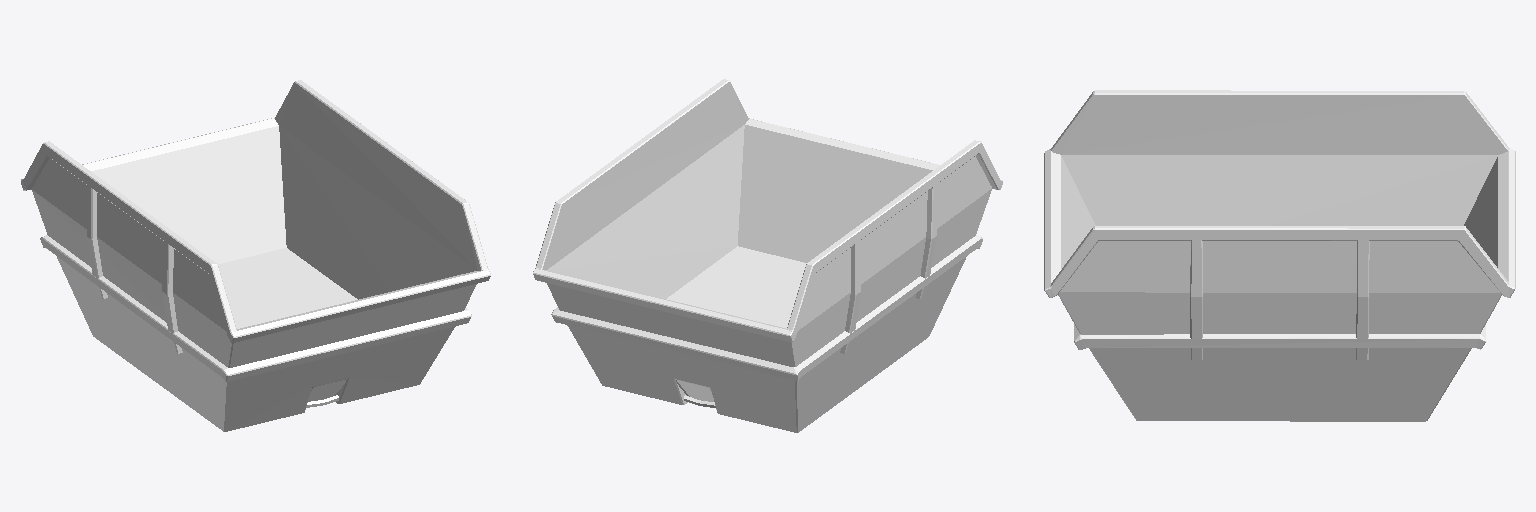
The robot description file, URDF, robot "ball":
<?xml version="1.0" encoding="utf-8"?>
<robot name="ball">
  <link name="base_link">
    <contact>
      <lateral_friction value="0.5"/>
      <rolling_friction value="0.0"/>
      <contact_cfm value="0.0"/>
      <contact_erp value="1.0"/>
    </contact>
    <inertial>
      <origin rpy="0 0 0" xyz="0 0 0"/>
      <mass value="0"/>
      <inertia ixx="0" ixy="0" ixz="0" iyy="0" iyz="0" izz="0"/>
    </inertial>
    <visual>
      <origin rpy="1.57 0 0" xyz="0 0 0"/>
      <geometry>
        <mesh filename="models/meshes/dumpster/Dumpster.obj" scale="0.0032 0.0032 0.0032"/>
      </geometry>
      <material name="tray_material">
        <color rgba="1 1 1 1"/>
      </material>
    </visual>
    <collision>
      <origin rpy="1.57 0 0" xyz="0 0 0"/>
      <geometry>
        <mesh filename="models/meshes/dumpster/Dumpster.obj" scale="0.0032 0.0032 0.0032"/>
      </geometry>
    </collision>
  </link>
</robot>

--- Render facts (derived) ---
The picture shows the robot from 3 angles, left to right: view 1: azimuth 30°, elevation 25°; view 2: azimuth 150°, elevation 25°; view 3: azimuth 270°, elevation 25°; orthographic projection.
Robot: ball — 1 links, 0 joints (none); root link base_link; default pose: every joint at zero.
Links seen in each view (by area): view 1: base_link; view 2: base_link; view 3: base_link.
Boxes of the visible links, bbox=[...] form: base_link: bbox=[21, 80, 490, 431]; base_link: bbox=[533, 79, 1002, 432]; base_link: bbox=[1044, 90, 1515, 421].
Size in the robot's own frame: 0.9147 by 1.31 by 0.6407 metres.
1 mesh visuals loaded from 1 distinct referenced files (1 OBJ).